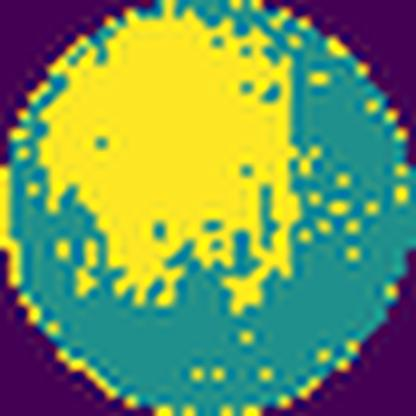Loc: (39, 12, 298, 318)
